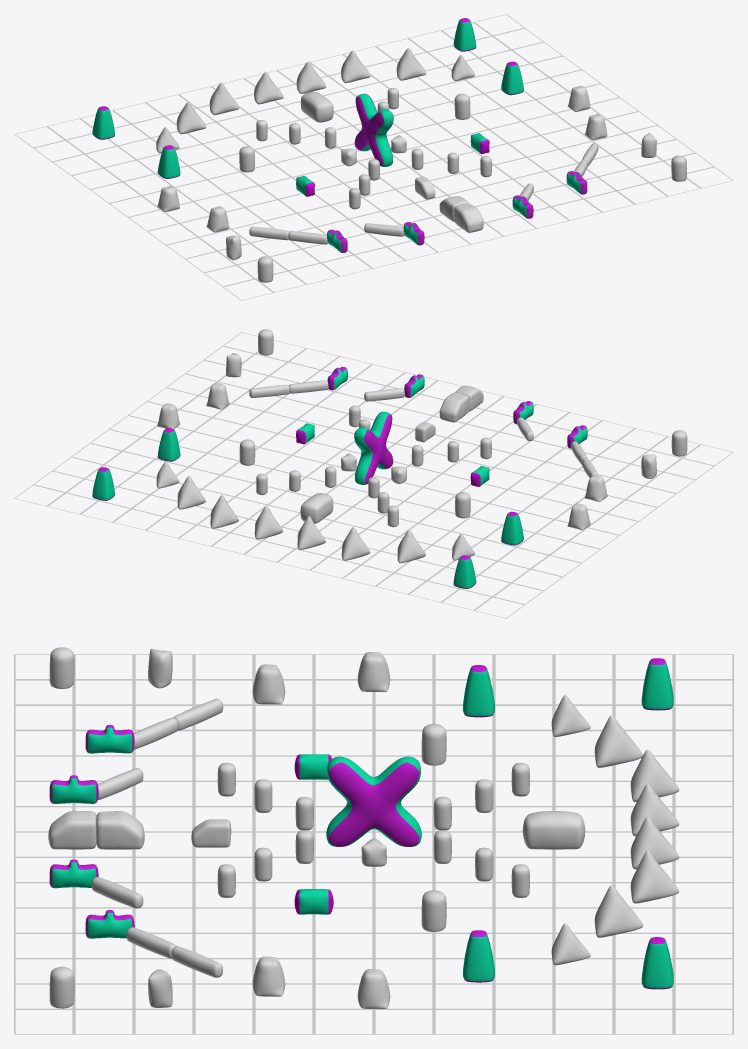
File: reference.fbx
The picture shows the model from 3 angles, top to bottom: view 1: azimuth 30°, elevation 25°; view 2: azimuth 150°, elevation 25°; view 3: azimuth 270°, elevation 25°; orthographic projection. The views are drawn at different scales.
Visible parts, largest first — view 1: X_L.001; view 2: X_L.001; view 3: X_L.001.
Part boxes in pixels (box(x1,y1,x2,y2)): X_L.001: box(14, 14, 733, 300); X_L.001: box(14, 329, 733, 618); X_L.001: box(14, 647, 733, 1034).
Size of the model in its own units: 4572 by 489 by 3658.
